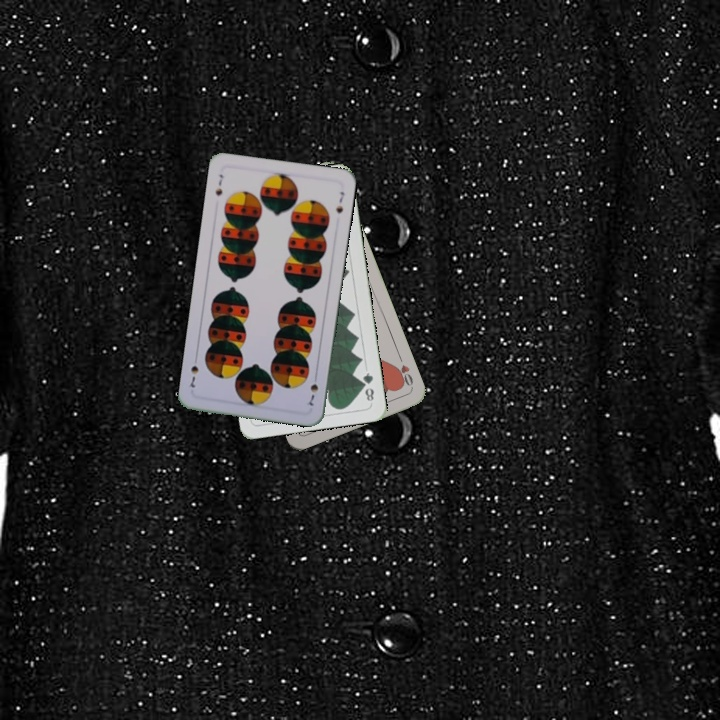G8: (358, 368, 377, 404)
HO: (391, 351, 416, 390)
S7: (305, 370, 321, 408), (211, 170, 226, 198)
